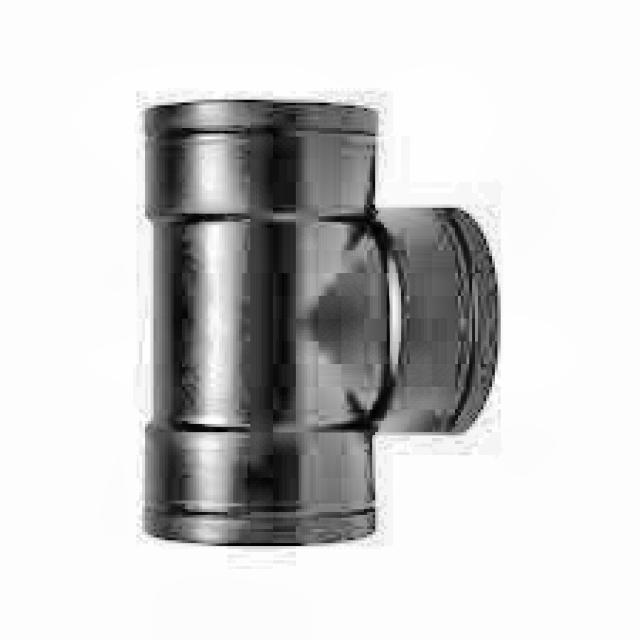EQUALTEE: (142, 100, 501, 549)
